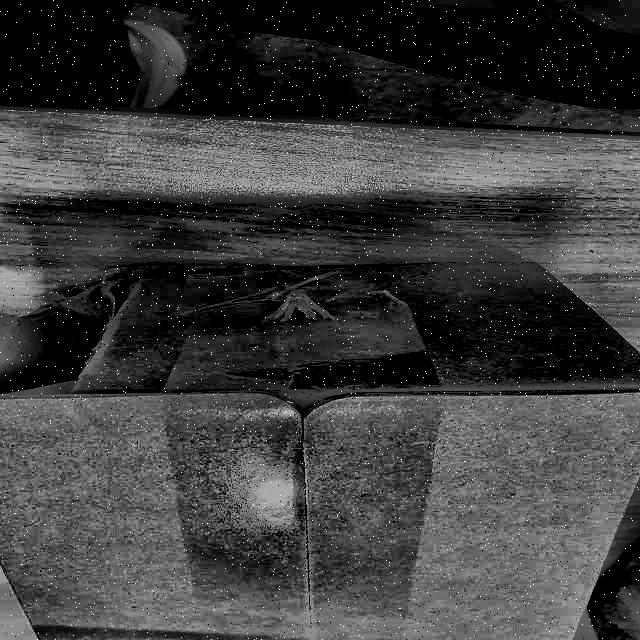box: (0, 238, 640, 640)
hole: (1, 272, 129, 408)
